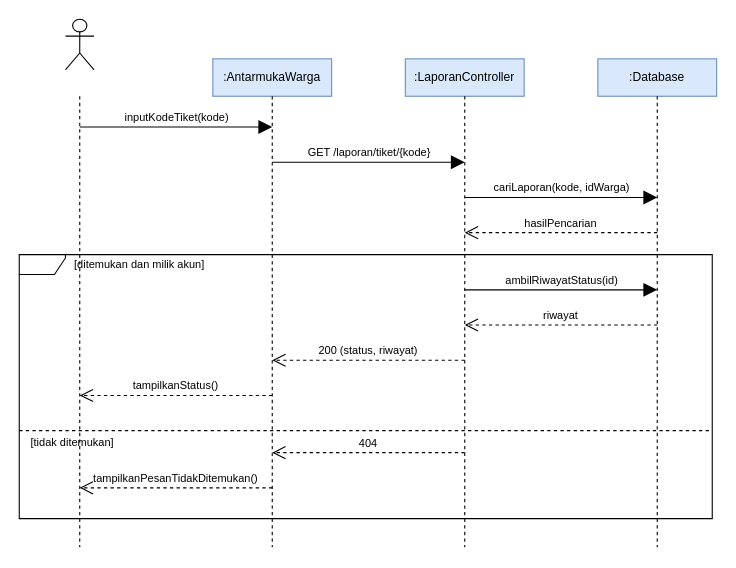
Some shapes in this 736 by 568 pixel diagram are drawn without their labels. Each missing label, with the box of its shape:
alt: (18, 254, 712, 519)
Warga: (64, 18, 94, 70)
